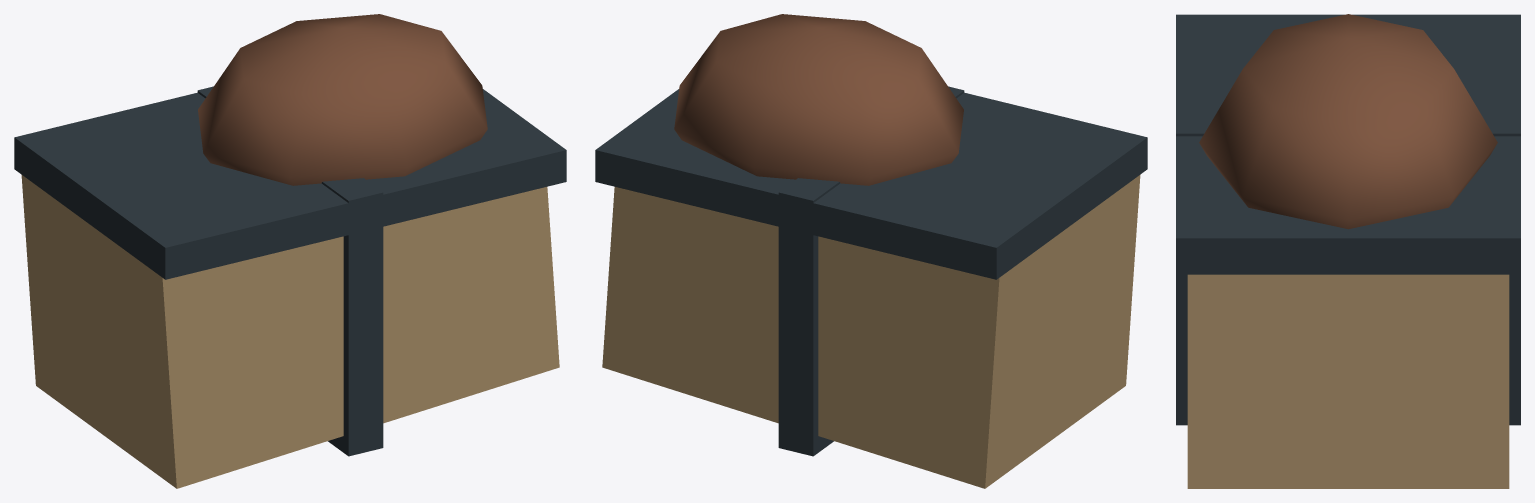
The model's file is fixed-ration-lod1.glb.
3 renders of one model, left to right at view 1: azimuth 30°, elevation 25°; view 2: azimuth 150°, elevation 25°; view 3: azimuth 270°, elevation 25°, orthographic. The views are drawn at different scales.
Parts seen in each view (by area): view 1: piece_whole; view 2: piece_whole; view 3: piece_whole.
Part boxes in pixels (x1,y1,x2,y2): piece_whole: [14, 14, 566, 488]; piece_whole: [595, 14, 1147, 488]; piece_whole: [1176, 14, 1520, 488].
Size of what is drawn, in the model's own units: 0.46 by 0.39 by 0.3.
